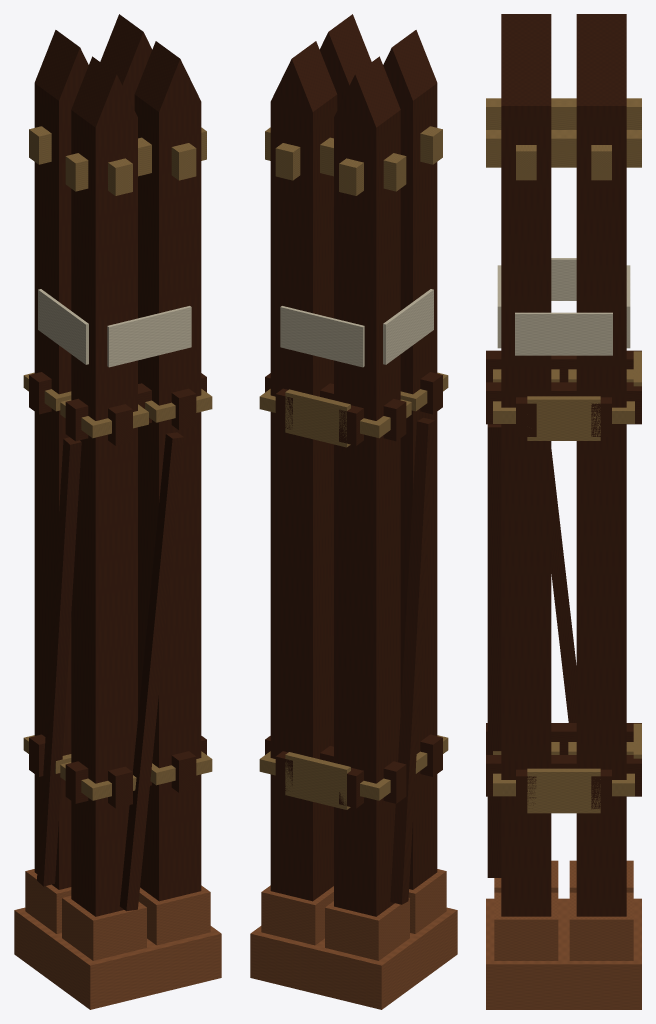
File: Berber_PalisadeBastion_Age3_corner_90.fbx
3 views of the same model, side by side, from view 1: azimuth 30°, elevation 25°; view 2: azimuth 150°, elevation 25°; view 3: azimuth 270°, elevation 25° (orthographic). The views are drawn at different scales.
Visible parts, largest first — view 1: split_timber_upright.008, split_timber_upright.010, split_timber_upright.009, compacted_earth_footing.002, terminal_diagonal_stay.012, terminal_diagonal_stay.010, earth_post_socket.008, native_owner_stripe_source.010, earth_post_socket.010, split_timber_upright.011, native_owner_stripe_source.008, earth_post_socket.009 (+15 smaller); view 2: split_timber_upright.009, split_timber_upright.011, split_timber_upright.008, compacted_earth_footing.002, terminal_diagonal_stay.010, earth_post_socket.009, native_owner_stripe_source.011, earth_post_socket.011, exposed_wall_socket_collar.008, exposed_wall_socket_collar.009, split_timber_upright.010, native_owner_stripe_source.008 (+13 smaller); view 3: split_timber_upright.010, split_timber_upright.011, compacted_earth_footing.002, terminal_diagonal_stay.012, native_owner_stripe_source.009, earth_post_socket.010, earth_post_socket.011, exposed_wall_socket_collar.006, terminal_diagonal_stay.010, exposed_wall_socket_collar.007, locking_head_tie_y.005, locking_head_tie_y.004 (+17 smaller).
Boxes of the visible parts, x1,y1,x2,y2 form: split_timber_upright.008: (71, 56, 137, 916); split_timber_upright.010: (134, 41, 201, 901); split_timber_upright.009: (34, 30, 88, 889); compacted_earth_footing.002: (14, 907, 221, 1009); terminal_diagonal_stay.012: (119, 432, 183, 911); terminal_diagonal_stay.010: (37, 437, 81, 886); earth_post_socket.008: (62, 896, 146, 960); native_owner_stripe_source.010: (107, 306, 191, 367); earth_post_socket.010: (138, 885, 210, 945); split_timber_upright.011: (100, 14, 152, 109); native_owner_stripe_source.008: (38, 289, 88, 364); earth_post_socket.009: (25, 869, 71, 933); split_timber_upright.009: (334, 56, 400, 916); split_timber_upright.011: (270, 41, 337, 901); split_timber_upright.008: (383, 30, 437, 889); compacted_earth_footing.002: (250, 907, 457, 1009); terminal_diagonal_stay.010: (390, 417, 434, 904); earth_post_socket.009: (325, 898, 409, 960); native_owner_stripe_source.011: (280, 306, 364, 367); earth_post_socket.011: (261, 885, 333, 945); exposed_wall_socket_collar.008: (285, 752, 350, 809); exposed_wall_socket_collar.009: (285, 389, 350, 447); split_timber_upright.010: (319, 14, 371, 109); native_owner_stripe_source.008: (383, 289, 433, 364); split_timber_upright.010: (501, 46, 551, 916); split_timber_upright.011: (576, 46, 626, 916); compacted_earth_footing.002: (486, 898, 641, 1009); terminal_diagonal_stay.012: (487, 424, 501, 877); native_owner_stripe_source.009: (515, 312, 612, 355); earth_post_socket.010: (494, 892, 558, 960); earth_post_socket.011: (569, 892, 633, 960); exposed_wall_socket_collar.006: (527, 768, 600, 813); terminal_diagonal_stay.010: (551, 449, 576, 722); exposed_wall_socket_collar.007: (527, 396, 600, 440); locking_head_tie_y.005: (486, 130, 641, 167); locking_head_tie_y.004: (486, 98, 641, 129).
Size of the model in its own units: 68.29 by 458 by 68.29.
4 materials, 4 textured.
